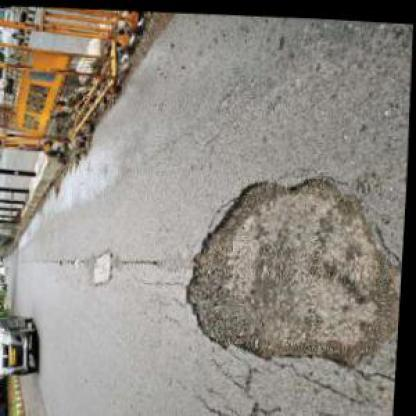pothole: (174, 158, 408, 368)
